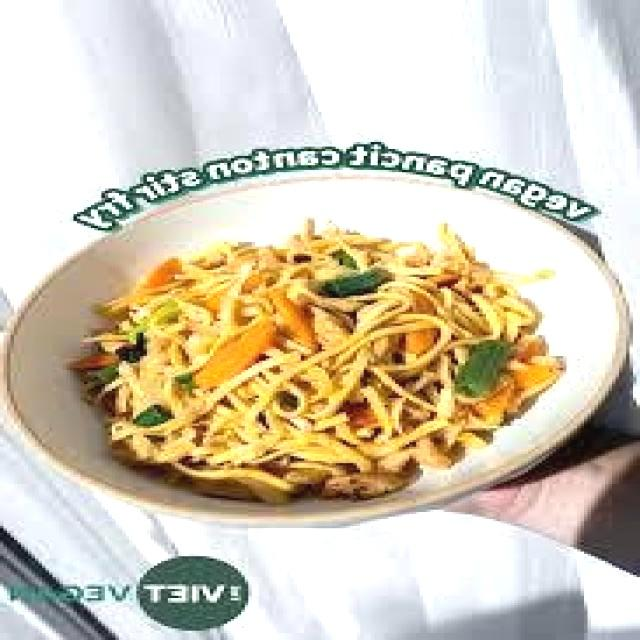pancit bihon: (75, 228, 551, 499)
